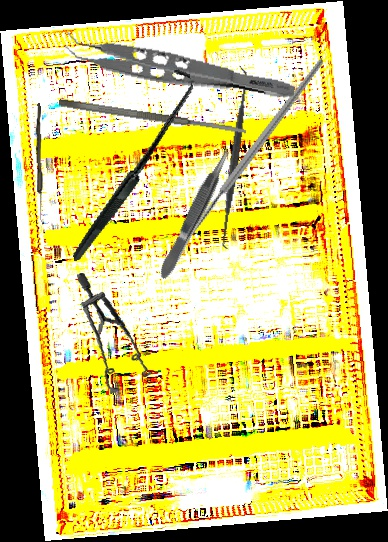Hook Surgical: (126, 55, 377, 272), (31, 66, 231, 262)
Spatula Surgical: (211, 65, 258, 251), (58, 97, 247, 137)
Speculum: (61, 272, 165, 400)
Surgical Spoon: (34, 103, 45, 223)
Tissue Forceps: (61, 26, 299, 104), (153, 143, 238, 282)
